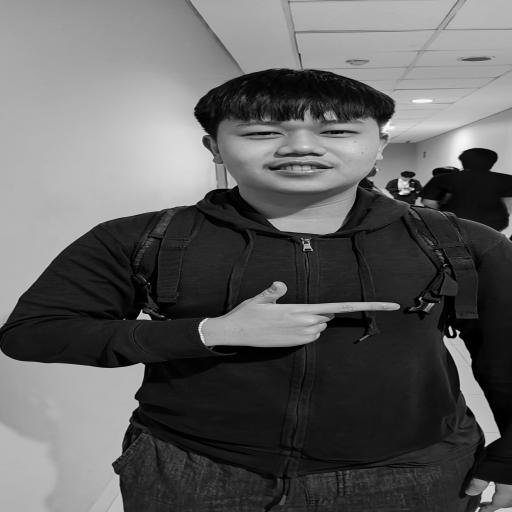next: (186, 275, 421, 359)
